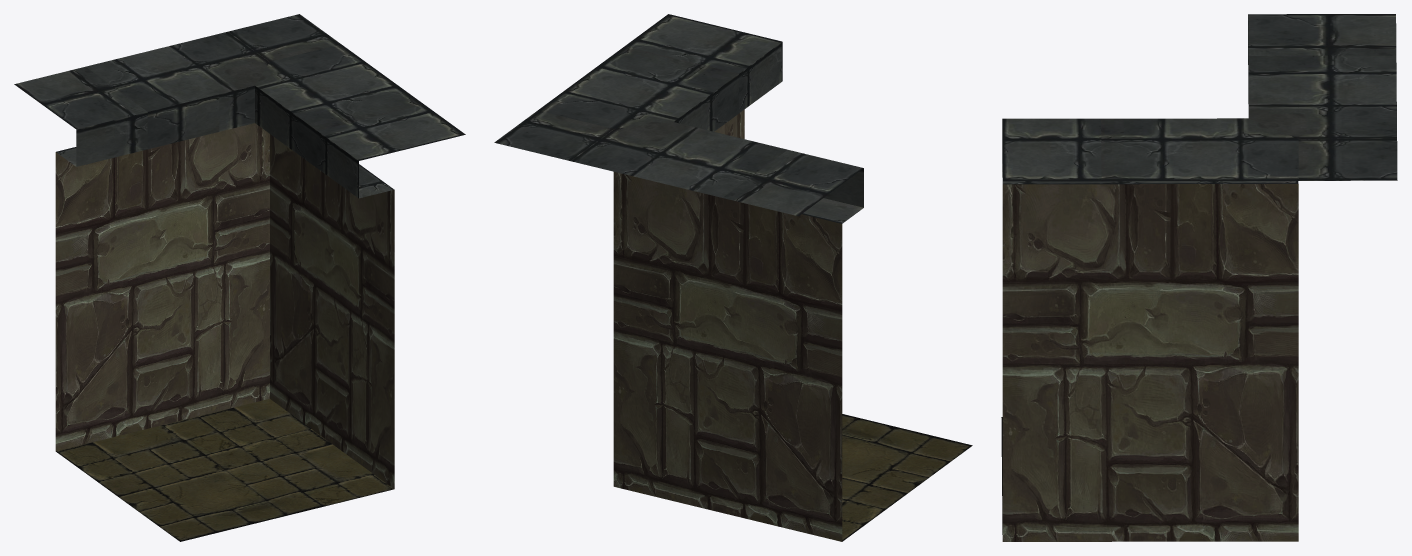
Rendered from corner_tile_001.FBX.
3 renders of one model, left to right at view 1: azimuth 30°, elevation 25°; view 2: azimuth 150°, elevation 25°; view 3: azimuth 270°, elevation 25°, orthographic. The views are drawn at different scales.
Visible parts, largest first — view 1: corner_001; view 2: corner_001; view 3: corner_001.
Boxes of the visible parts, x1,y1,x2,y2 form: corner_001: (14,14,465,541); corner_001: (494,14,972,541); corner_001: (1001,14,1397,541).
Bounding box in the file's own units: 40.14 × 45 × 40.14.
1 material, 1 textured.
